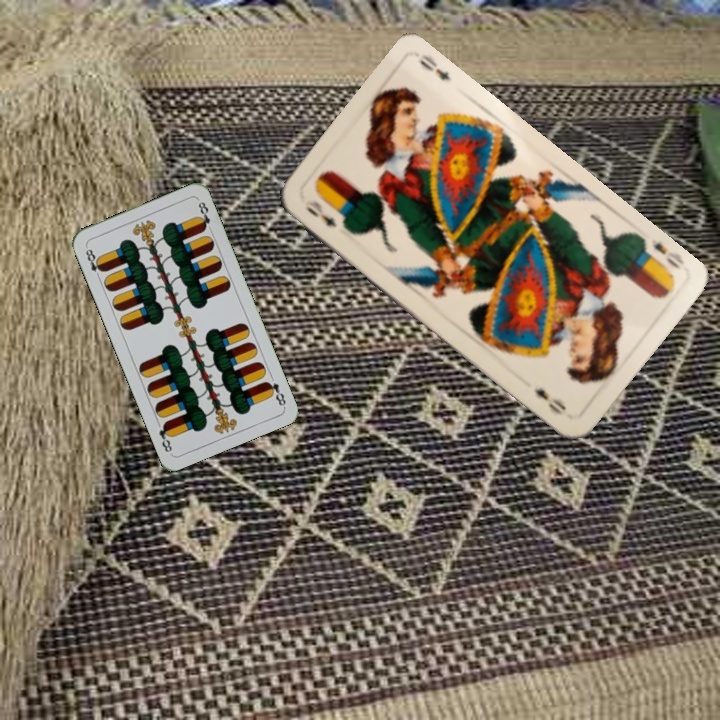E8: (81, 242, 106, 281), (262, 377, 288, 409)
EO: (647, 234, 687, 272), (300, 196, 339, 230)
